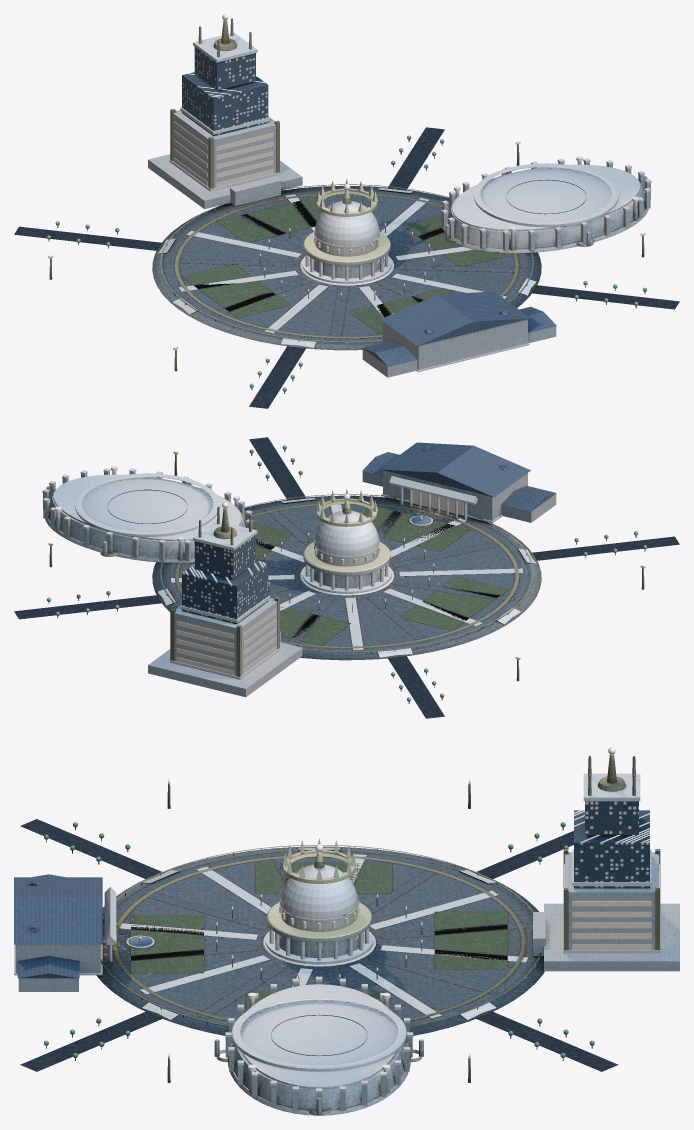
Rendered from glory_crown.glb.
The picture shows the model from 3 angles, top to bottom: view 1: azimuth 30°, elevation 25°; view 2: azimuth 150°, elevation 25°; view 3: azimuth 270°, elevation 25°; orthographic projection. The views are drawn at different scales.
Visible parts, largest first — view 1: site_ground, props_tower, props_arena, props_club, props_main; view 2: site_ground, props_tower, props_arena, props_club, props_main, props_lights; view 3: site_ground, props_arena, props_tower, props_club, props_main, props_lights.
Boxes of the visible parts, x1,y1,x2,y2 form: site_ground: [14, 127, 679, 408]; props_tower: [148, 14, 302, 209]; props_arena: [441, 156, 651, 253]; props_club: [362, 291, 556, 377]; props_main: [299, 179, 394, 285]; site_ground: [14, 437, 679, 718]; props_tower: [148, 502, 302, 697]; props_arena: [42, 466, 252, 563]; props_club: [362, 442, 556, 525]; props_main: [299, 489, 394, 595]; props_lights: [48, 451, 645, 681]; site_ground: [20, 819, 618, 1071]; props_arena: [214, 976, 423, 1115]; props_tower: [533, 747, 679, 971]; props_club: [14, 874, 154, 991]; props_main: [262, 838, 376, 966]; props_lights: [167, 779, 470, 1082].
Bounding box in the file's own units: 470 × 138 × 421.
6 materials, 6 textured.
